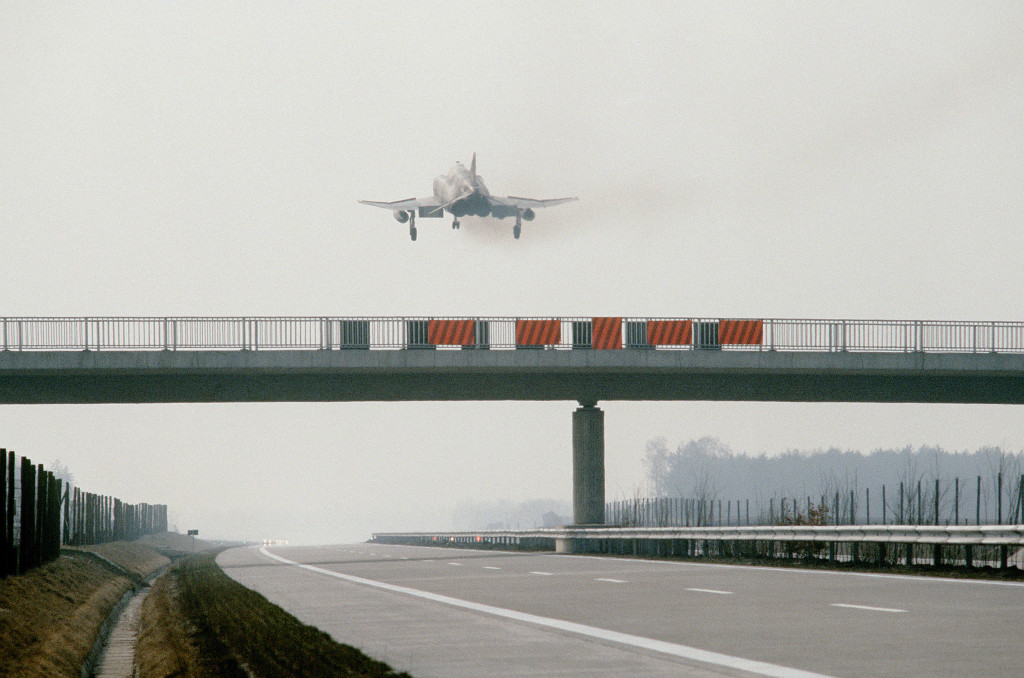F4: (357, 151, 579, 241)
